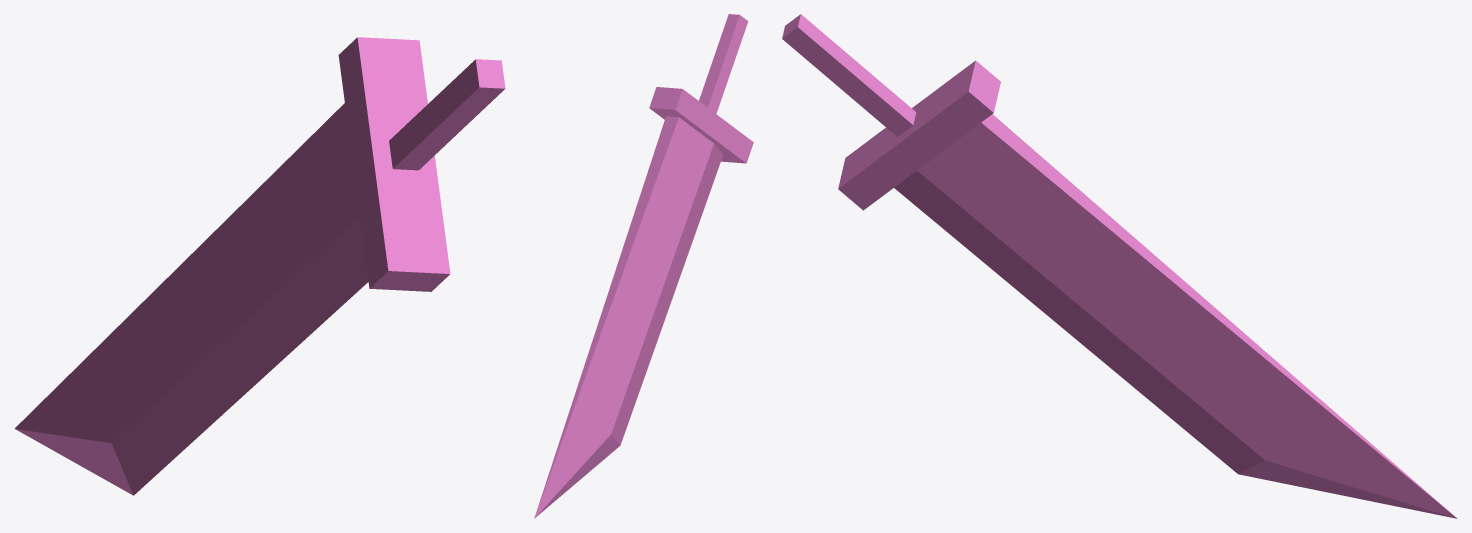
File: sword.glb
3 views of the same model, side by side, from view 1: azimuth 30°, elevation 25°; view 2: azimuth 150°, elevation 25°; view 3: azimuth 270°, elevation 25° (orthographic). The views are drawn at different scales.
Visible parts, largest first — view 1: Handler.001; view 2: Handler.001; view 3: Handler.001.
Part boxes in pixels (x1,y1,x2,y2): Handler.001: (14,37,505,495); Handler.001: (534,14,753,518); Handler.001: (782,14,1457,518).
Size of the model in its own units: 0.4952 by 2.81 by 3.34.
